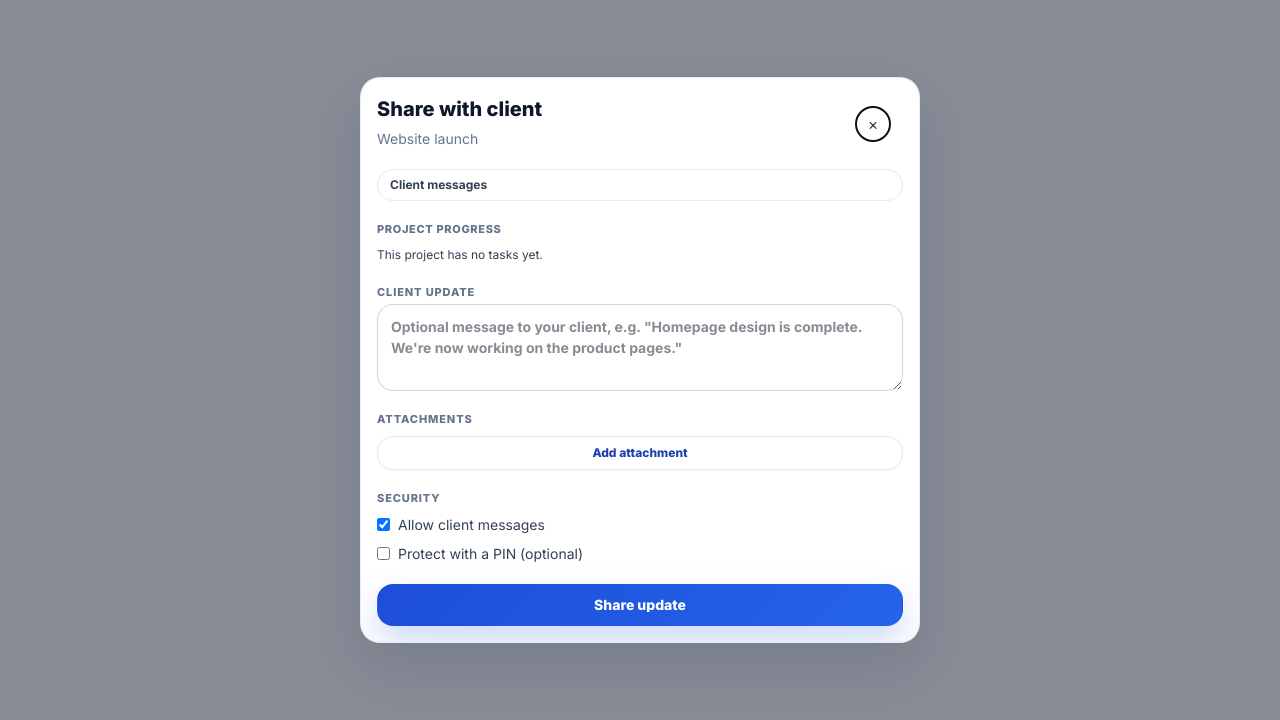
Test: ShareLinkPanel - Phase 5D Client messages entry point › 34. clicking the entry point swaps the panel content to the communication view
The width and height of the screenshot is (1280, 720).
Click the button "Client messages".
click(439, 184)  # box [377,169,903,201]
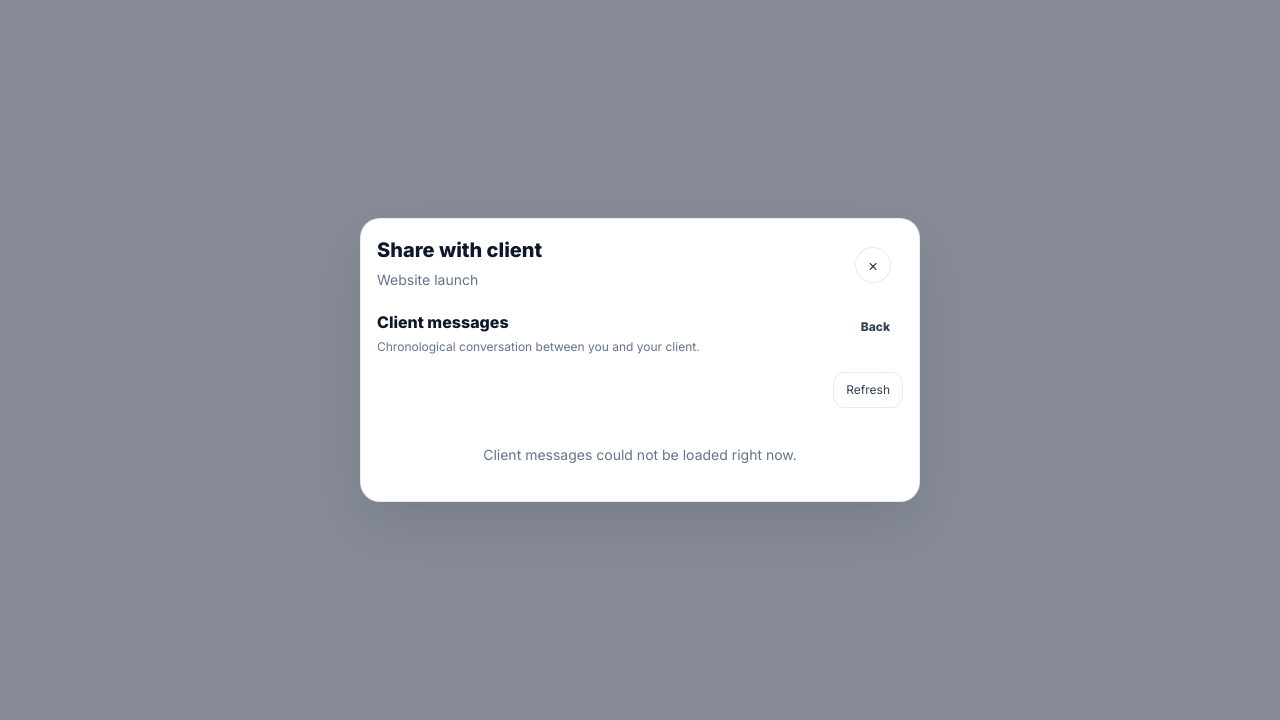
Expected: the text "Chronological conversation between you and your client." is shown, [377,338,700,356]
